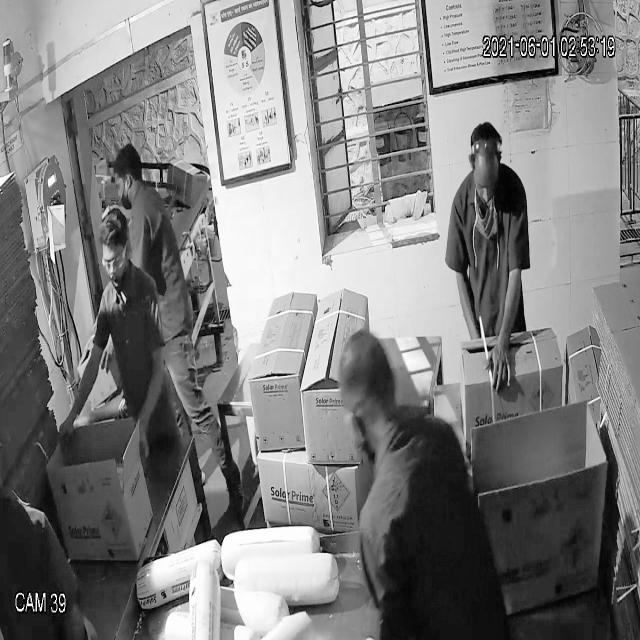glasses: (98, 246, 134, 278)
